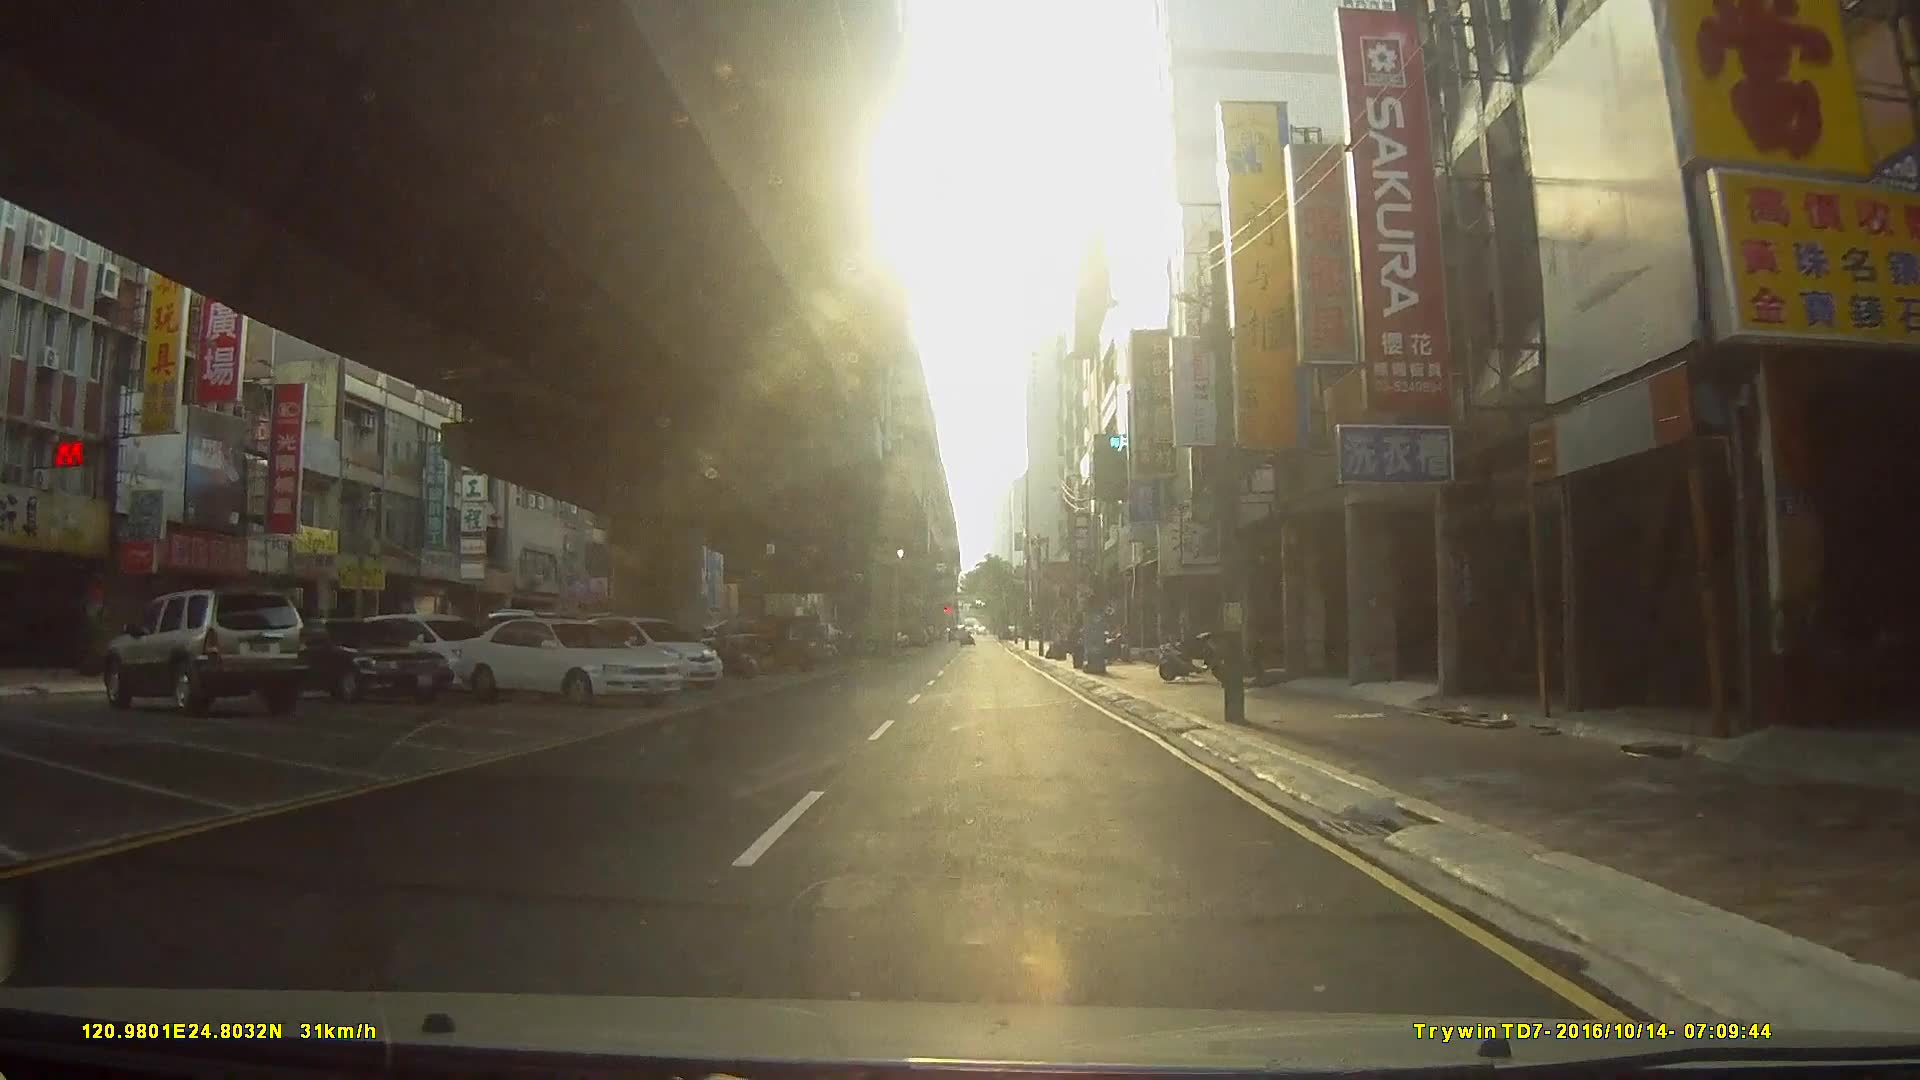vehicle: (100, 589, 309, 711), (450, 616, 686, 707), (229, 618, 448, 705), (570, 615, 723, 695)
